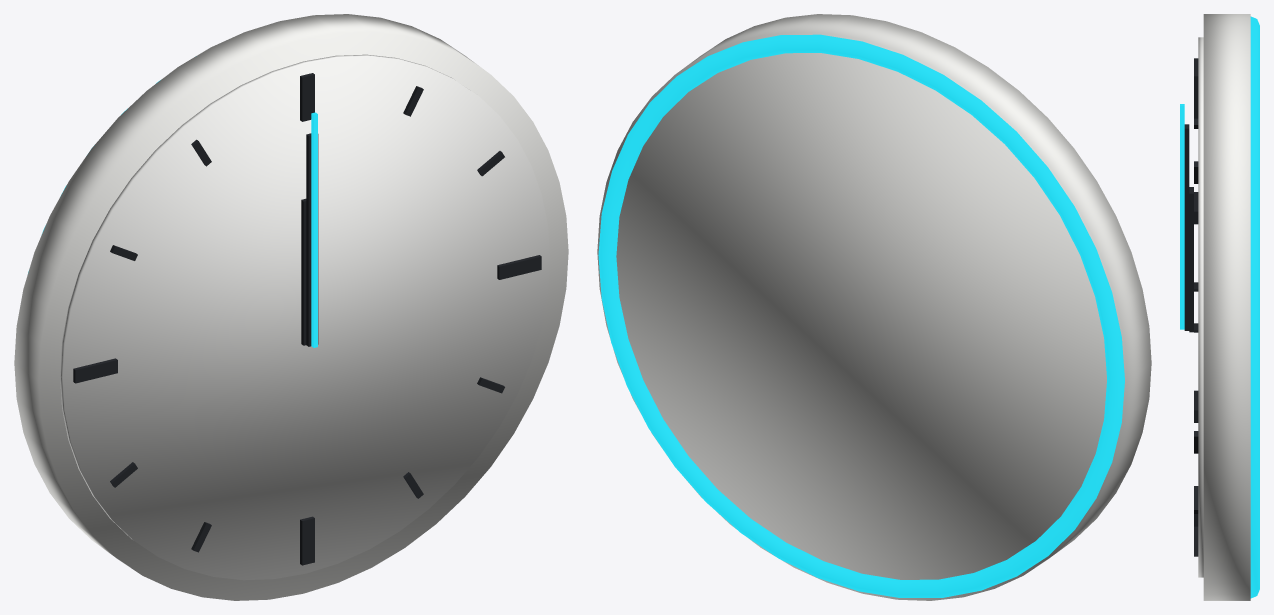
File: Deco_WallClock.gltf
3 views of the same model, side by side, from view 1: azimuth 30°, elevation 25°; view 2: azimuth 150°, elevation 25°; view 3: azimuth 270°, elevation 25° (orthographic). The views are drawn at different scales.
Parts seen in each view (by area): view 1: Deco_WallClock, Clock_Second, Clock_Minute, Clock_Hour; view 2: Deco_WallClock; view 3: Deco_WallClock, Clock_Minute, Clock_Second, Clock_Hour.
Part boxes in pixels (bbox=[...]): Deco_WallClock: bbox=[14, 14, 568, 600]; Clock_Second: bbox=[311, 112, 317, 347]; Clock_Minute: bbox=[306, 133, 318, 346]; Clock_Hour: bbox=[301, 198, 306, 345]; Deco_WallClock: bbox=[597, 14, 1151, 600]; Deco_WallClock: bbox=[1194, 14, 1259, 600]; Clock_Minute: bbox=[1184, 124, 1189, 330]; Clock_Second: bbox=[1180, 104, 1184, 329]; Clock_Hour: bbox=[1189, 187, 1193, 332].
Size of the model in its own units: 0.5 by 0.5 by 0.068.
